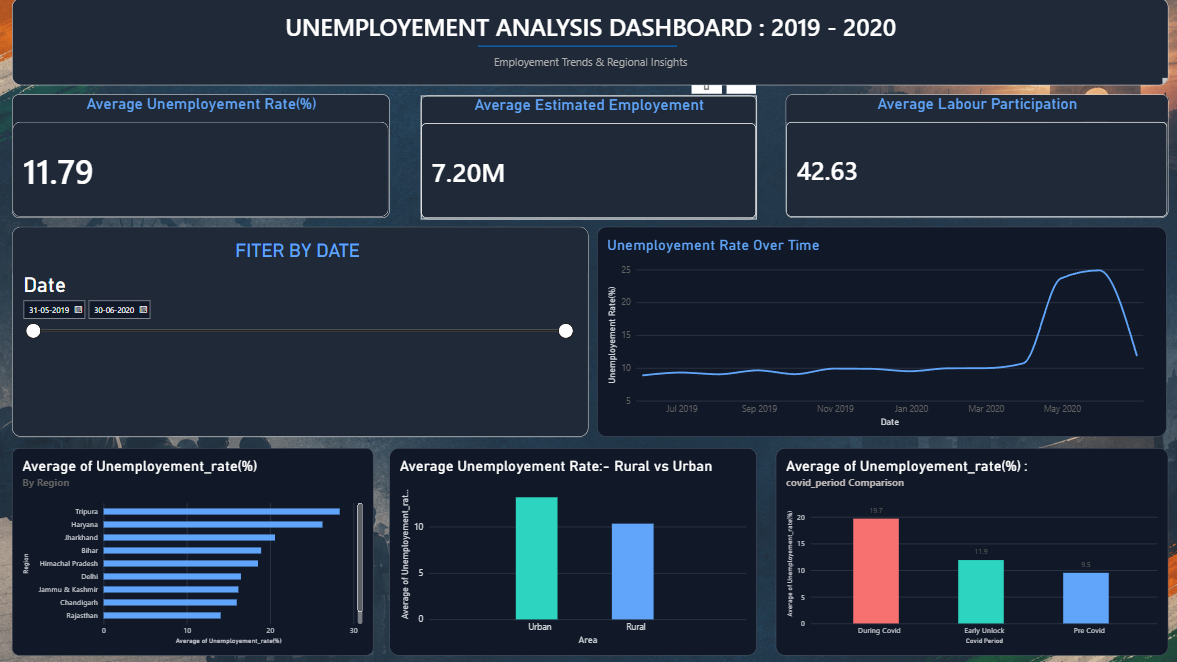

This screenshot's page, from the dashboard's own definition file:
{"tool":"powerbi","page":{"name":"Page 1","canvas":[1920,1080],"ordinal":0},"visuals":[{"type":"lineChart","title":"Unemployement Rate Over Time","fields":{"Category":["Unemployement_cleaned.Date.Variation.Date Hierarchy.Year","Unemployement_cleaned.Date.Variation.Date Hierarchy.Quarter","Unemployement_cleaned.Date.Variation.Date Hierarchy.Month","Unemployement_cleaned.Date.Variation.Date Hierarchy.Day"],"Y":["Avg(Unemployement_cleaned.Unemployement_rate(%))"]},"box":[974.3,371.2,923.9,340.9],"z":0},{"type":"cardVisual","title":"Average Unemployement Rate(%)","fields":{"Data":["Avg(Unemployement_cleaned.Unemployement_rate(%))"]},"box":[24.3,156.1,612.4,200.8],"z":1000},{"type":"clusteredBarChart","title":"Average of Unemployement_rate(%) ","fields":{"Category":["Unemployement_cleaned.Region"],"Y":["Avg(Unemployement_cleaned.Unemployement_rate(%))"]},"box":[24.3,730,586.1,336.6],"z":2000},{"type":"cardVisual","title":"Average Employement Rate(%)","fields":{"Data":["Avg(Unemployement_cleaned.Estimated Employed)"]},"box":[687.5,158.2,545.5,200.8],"z":3000},{"type":"cardVisual","title":"Average Labour Participation","fields":{"Data":["Avg(Unemployement_cleaned.Labour_participation(%))"]},"box":[1279.6,156.1,620.5,200.8],"z":4000},{"type":"clusteredColumnChart","title":"Average Unemployement Rate:- Rural vs Urban","fields":{"Category":["Unemployement_cleaned.Area"],"Y":["Avg(Unemployement_cleaned.Unemployement_rate(%))"]},"box":[636.8,730,596.2,336.6],"z":5000},{"type":"slicer","title":"FITER BY DATE ","fields":{"Values":["Unemployement_cleaned.Date"]},"box":[25,371.1,934.9,340.7],"z":6000},{"type":"clusteredColumnChart","title":"Average of Unemployement_rate(%) :","fields":{"Category":["Unemployement_cleaned.covid_period"],"Y":["Avg(Unemployement_cleaned.Unemployement_rate(%))"]},"box":[1263.4,730,636.8,336.6],"z":7000},{"type":"textbox","box":[24,0,569,202],"z":8000},{"type":"textbox","title":"UNEMPLOYEMENT ANALYSIS DASHBOARD : 2019 - 2020","box":[24.3,0,1875.8,142],"z":9000},{"type":"shape","box":[780.7,0,322.4,156.1],"z":10000}]}

Visuals, with their boxes in screenshot pixels (x1, y1, x2, y2), scaled from the page's 1920x1080 canvas onto the 1177x662 screenshot:
"Unemployement Rate Over Time" lineChart: 597, 228, 1164, 436
"Average Unemployement Rate(%)" cardVisual: 15, 96, 390, 219
"Average of Unemployement_rate(%) " clusteredBarChart: 15, 447, 374, 654
"Average Employement Rate(%)" cardVisual: 421, 97, 756, 220
"Average Labour Participation" cardVisual: 784, 96, 1165, 219
"Average Unemployement Rate:- Rural vs Urban" clusteredColumnChart: 390, 447, 756, 654
"FITER BY DATE " slicer: 15, 227, 588, 436
"Average of Unemployement_rate(%) :" clusteredColumnChart: 774, 447, 1165, 654
textbox: 15, 0, 364, 124
"UNEMPLOYEMENT ANALYSIS DASHBOARD : 2019 - 2020" textbox: 15, 0, 1165, 87
shape: 479, 0, 676, 96
